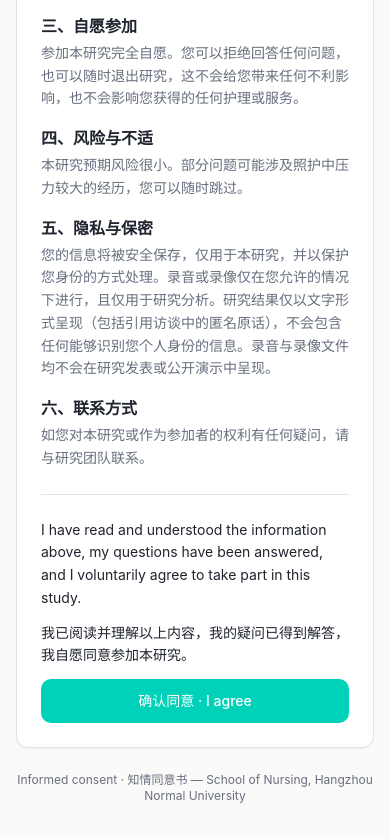
Test case: ConsentApp (/?__site=consent) › shows the confirmation only after the agree button is tapped
The width and height of the screenshot is (390, 839).
(page scrolled)
Expected: the text "已确认知情同意" is not shown
Click the button "确认同意 · I agree": (195, 701) [41,679,349,723]
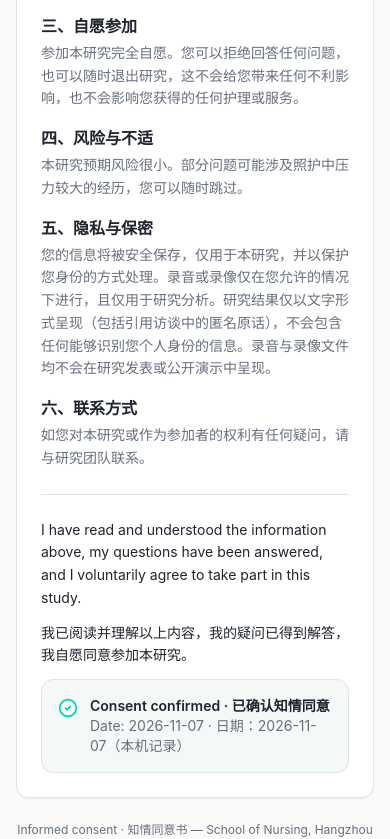
Now the text "Consent confirmed · 已确认知情同意" is shown, box [90,696,332,716]
Now the text "Date: 2026-11-07 · 日期：2026-11-07（本机记录）" is shown, box [90,716,332,756]
